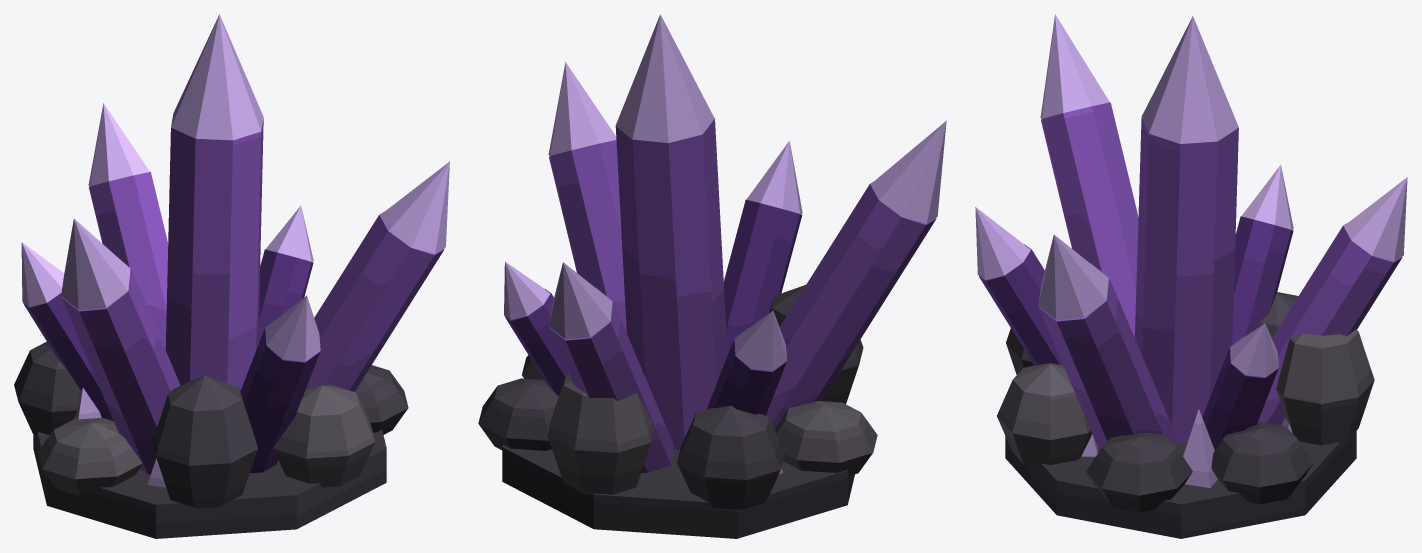
Rendered from dragon_crystal.glb.
3 views of the same model, side by side, from view 1: azimuth 30°, elevation 25°; view 2: azimuth 150°, elevation 25°; view 3: azimuth 270°, elevation 25° (orthographic).
Bounding box in the file's own units: 1.16 × 1.3 × 1.13.
Materials: 1 (1 with a texture image).
